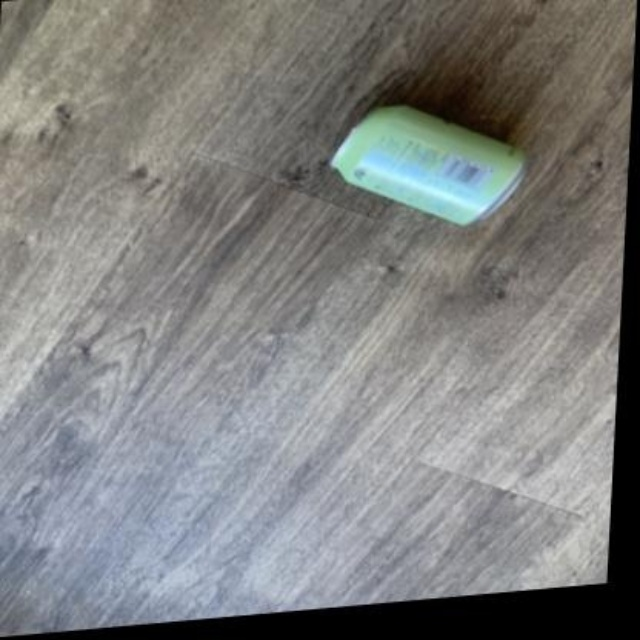trash: (331, 106, 525, 223)
